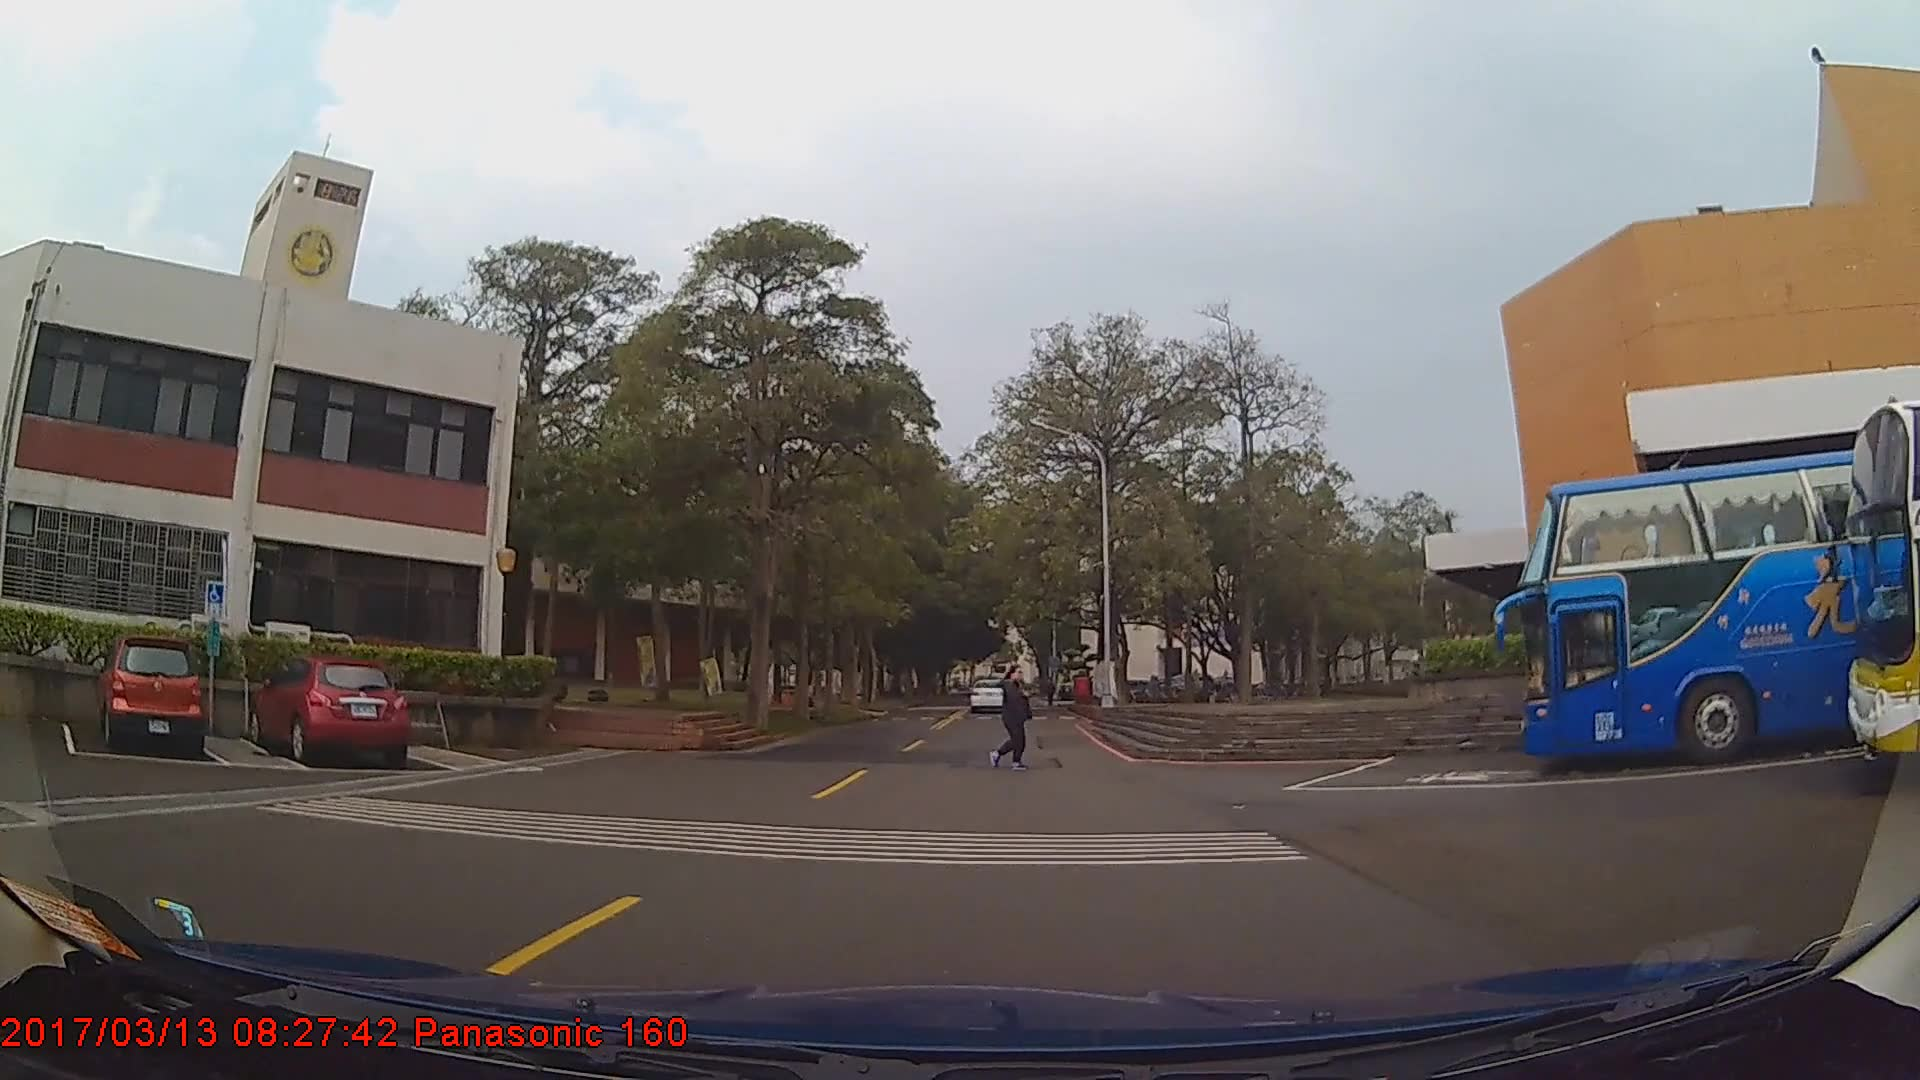pedestrian: (984, 661, 1044, 774)
vehicle: (1520, 434, 1920, 770), (244, 658, 407, 768), (96, 637, 204, 752), (970, 673, 1010, 711)
